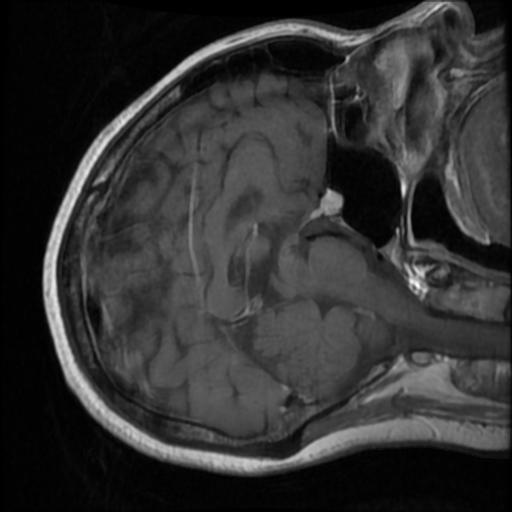pituitary tumour: (318, 188, 341, 215)
